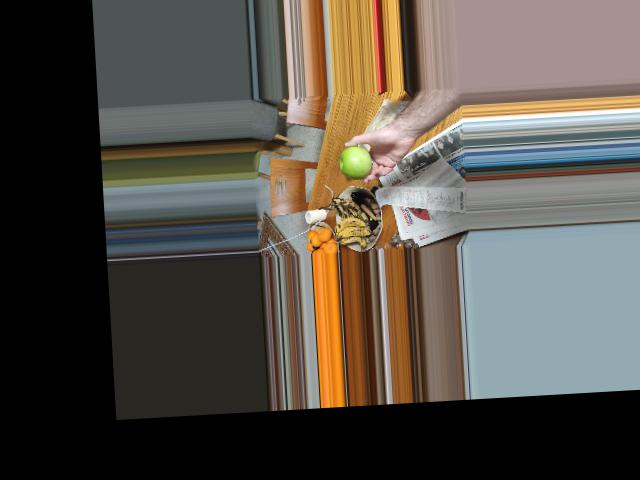apple: (334, 142, 375, 181)
